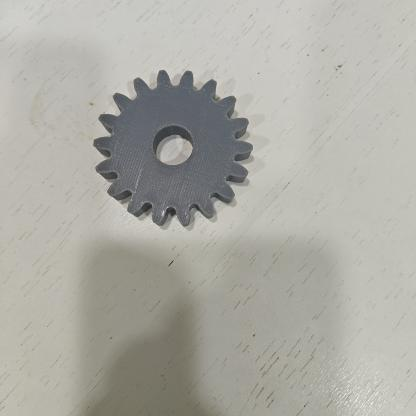gear: (80, 58, 270, 235)
